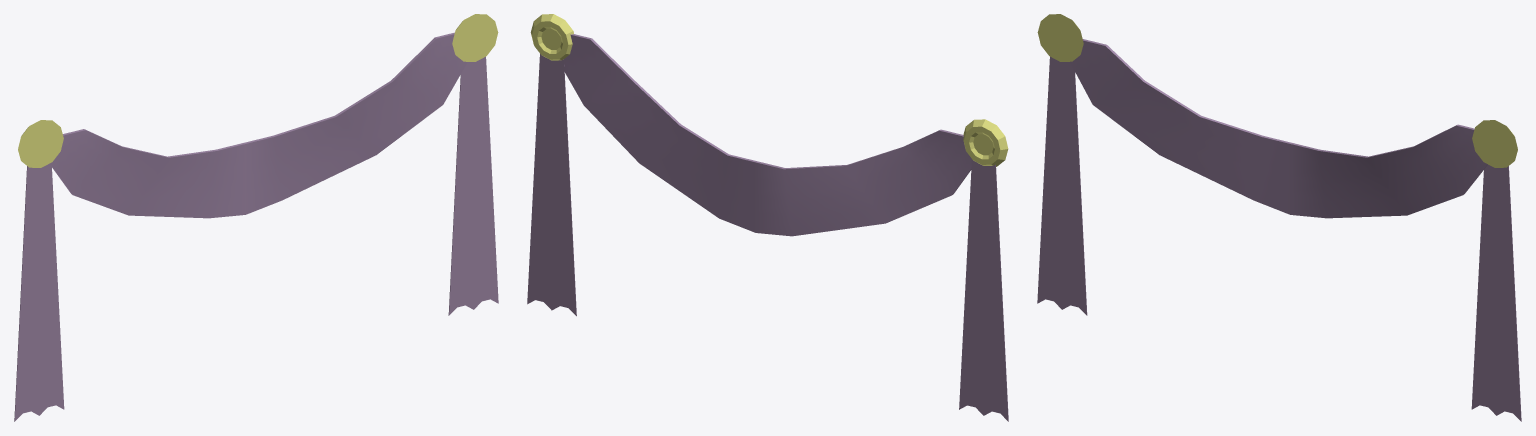
Rendered from streamer.fbx.
3 renders of one model, left to right at view 1: azimuth 30°, elevation 25°; view 2: azimuth 150°, elevation 25°; view 3: azimuth 330°, elevation 25°, orthographic.
Parts seen in each view (by area): view 1: pCube43; view 2: pCube43; view 3: pCube43.
Boxes of the visible parts, box(x1,y1,x2,y2) form: pCube43: box(14, 14, 498, 421); pCube43: box(527, 14, 1008, 421); pCube43: box(1037, 14, 1521, 421).
Bounding box in the file's own units: 3.94 × 2.31 × 0.1972.
